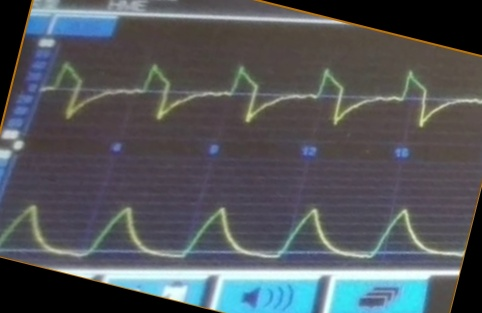Normal Flow: (43, 56, 480, 133)
Normal Volume: (1, 191, 461, 263)
